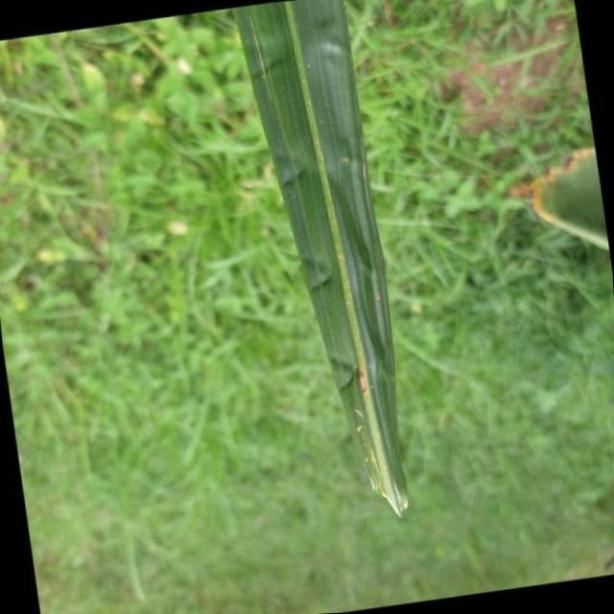Boron: (238, 0, 416, 518)
